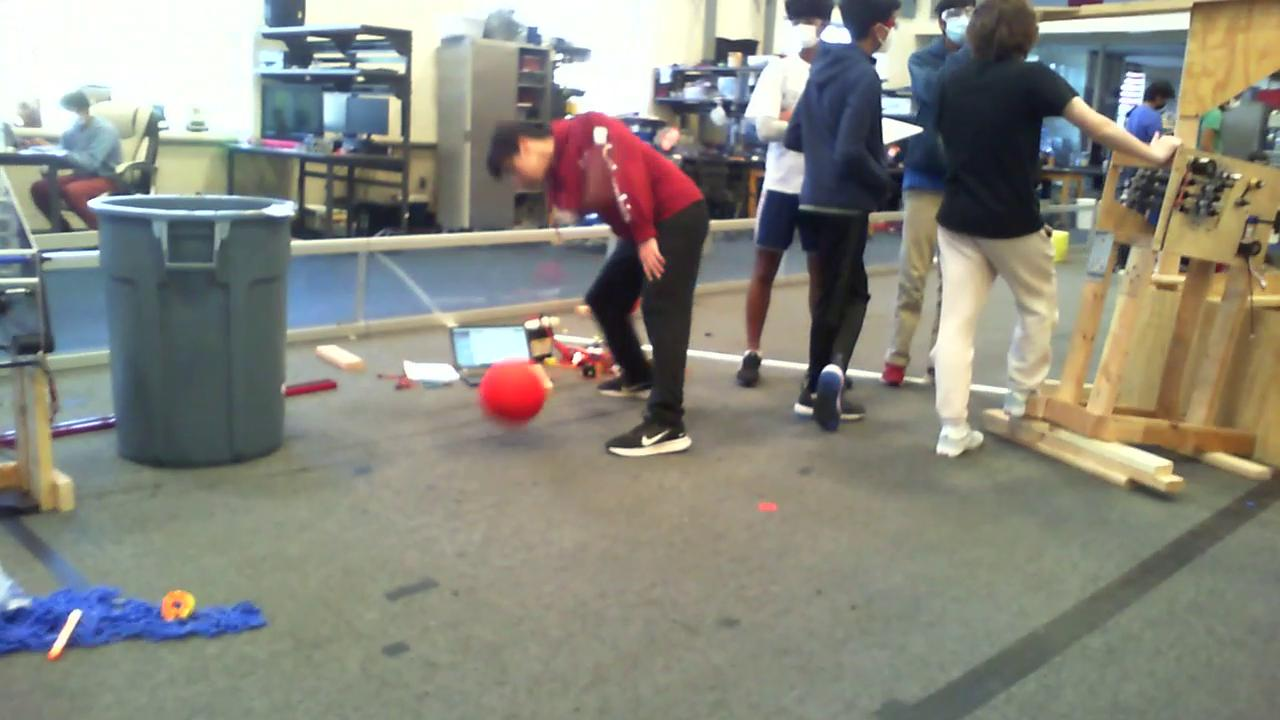Red_Ball: (469, 354, 550, 428)
